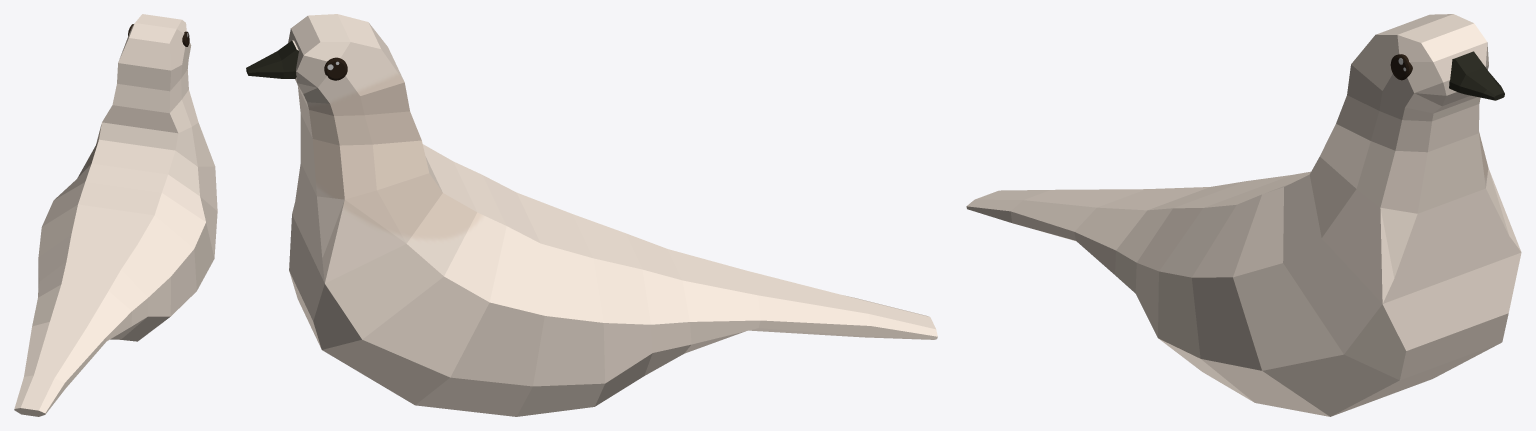
The model's file is Dove.gltf.
The picture shows the model from 3 angles, left to right: view 1: azimuth 30°, elevation 25°; view 2: azimuth 150°, elevation 25°; view 3: azimuth 270°, elevation 25°; orthographic projection. The views are drawn at different scales.
Visible parts, largest first — view 1: Dove; view 2: Dove; view 3: Dove.
Boxes of the visible parts, <box> form: Dove: <box>14,14,217,416</box>; Dove: <box>246,14,937,416</box>; Dove: <box>966,14,1521,416</box>.
Size of the model in its own units: 0.2327 by 0.1767 by 0.2123.
1 material, 1 textured.
